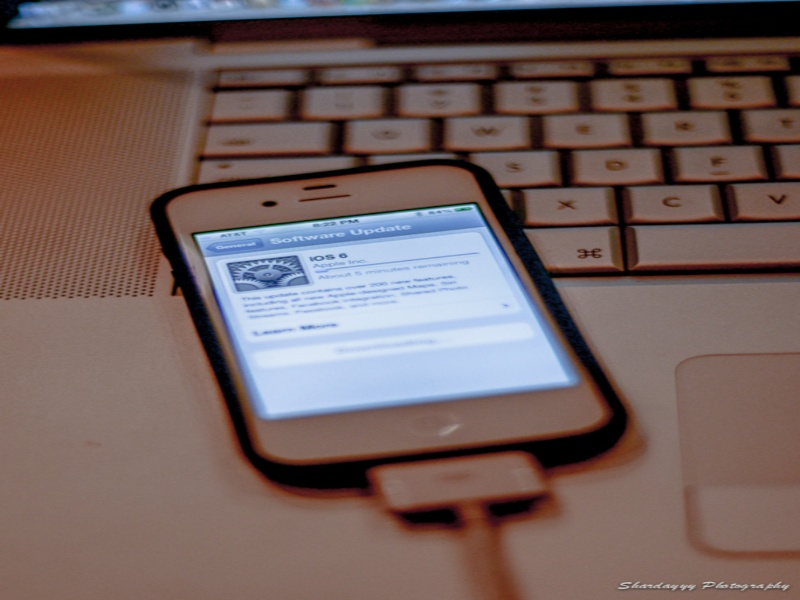cellphone: (139, 167, 624, 491)
